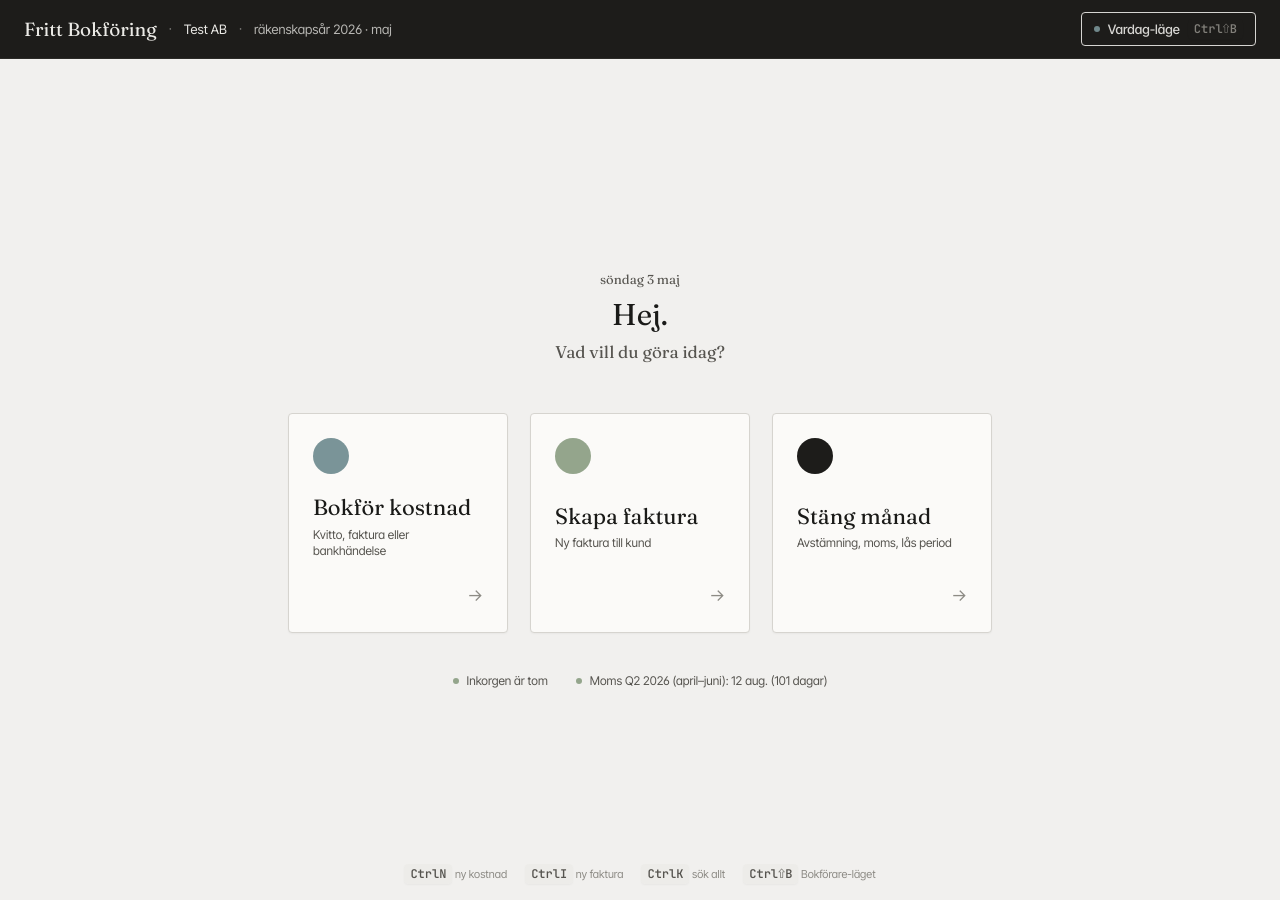
VardagApp (H+G-3 hero-screen) › öppnar SkapaFakturaSheet vid klick på faktura-knapp
Click the button with test id "vardag-bigbtn-faktura": [640, 523] box x1=530 y1=413 x2=750 y2=633
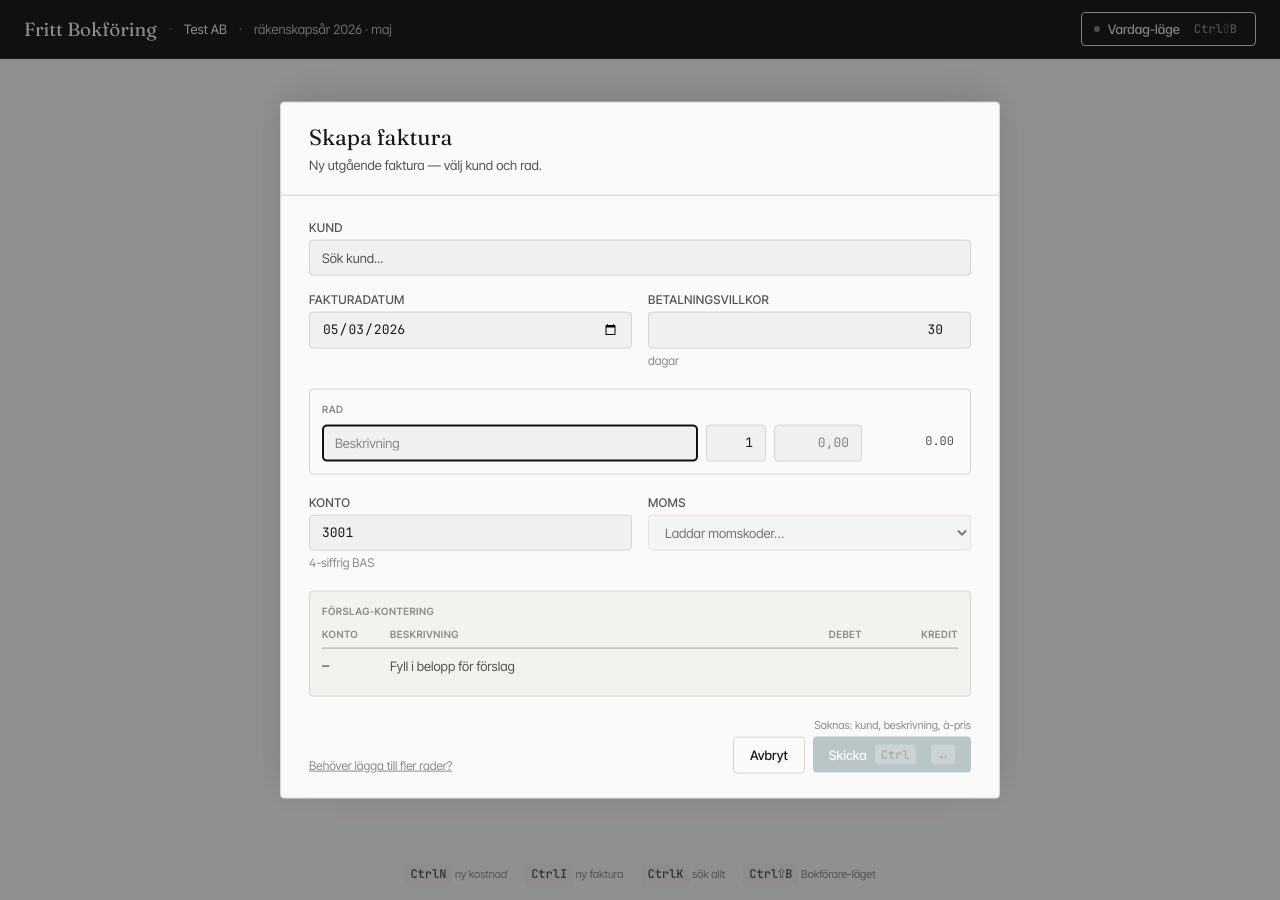
Expected: the dialog "Skapa faktura" is shown, x1=280 y1=102 x2=1000 y2=798
